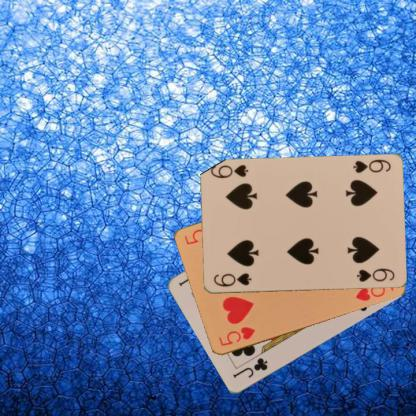5h: (216, 324, 257, 348)
6s: (350, 156, 392, 174), (211, 270, 252, 288)
Jc: (230, 355, 269, 380)
